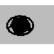correct: (4, 14, 36, 37)
